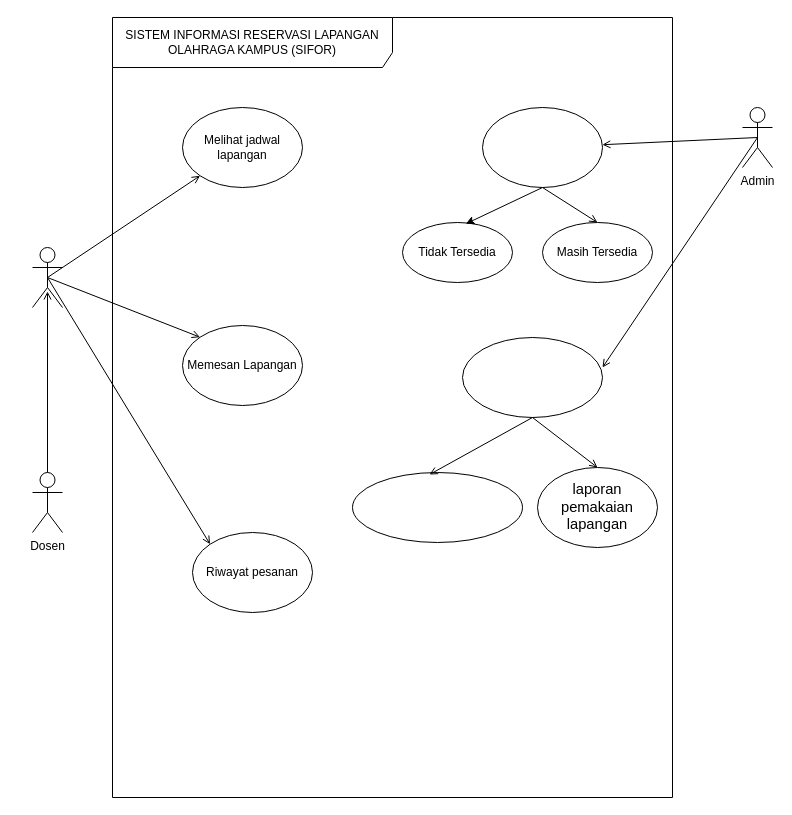
This 792x815 diagram has some shape labels left out. The centre of each missing label's shape, as x and y in pixels:
Mahasiswa: the point at 47,277
Memeriksa ketersediaan: the point at 542,147
menambah,mengubah,dan menghapus data lapangan: the point at 437,507
Pengelola lapangan: the point at 532,377
